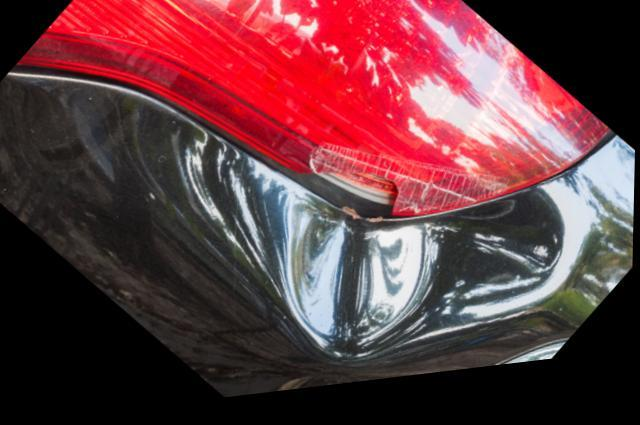dent: (256, 194, 574, 383)
lamp broken: (10, 0, 614, 236)
